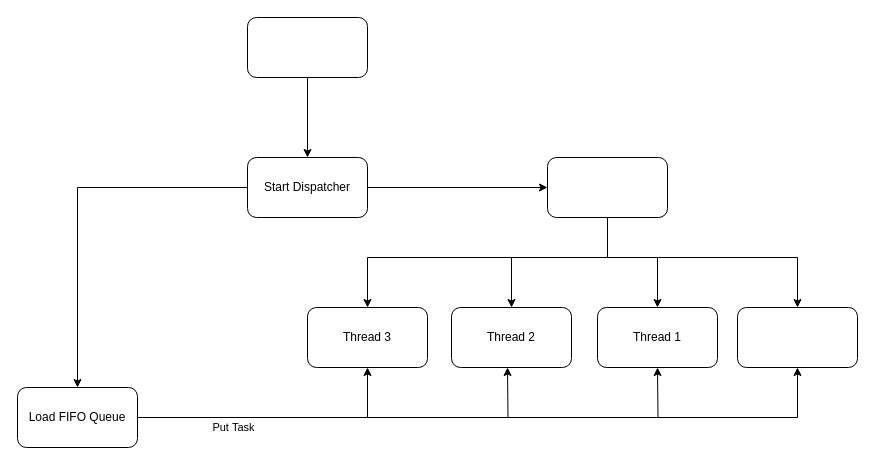
Some shapes in this 875 by 465 pixel diagram are drawn without their labels. Each missing label, with the centre of its shape:
"Dispatch Threads" goes at point 607,187.
"Object Detected" goes at point 307,47.
"Thread 4" goes at point 797,337.
